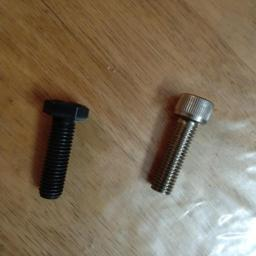screwtype1silver: (148, 91, 217, 197)
screwtype2black: (39, 99, 90, 200)
